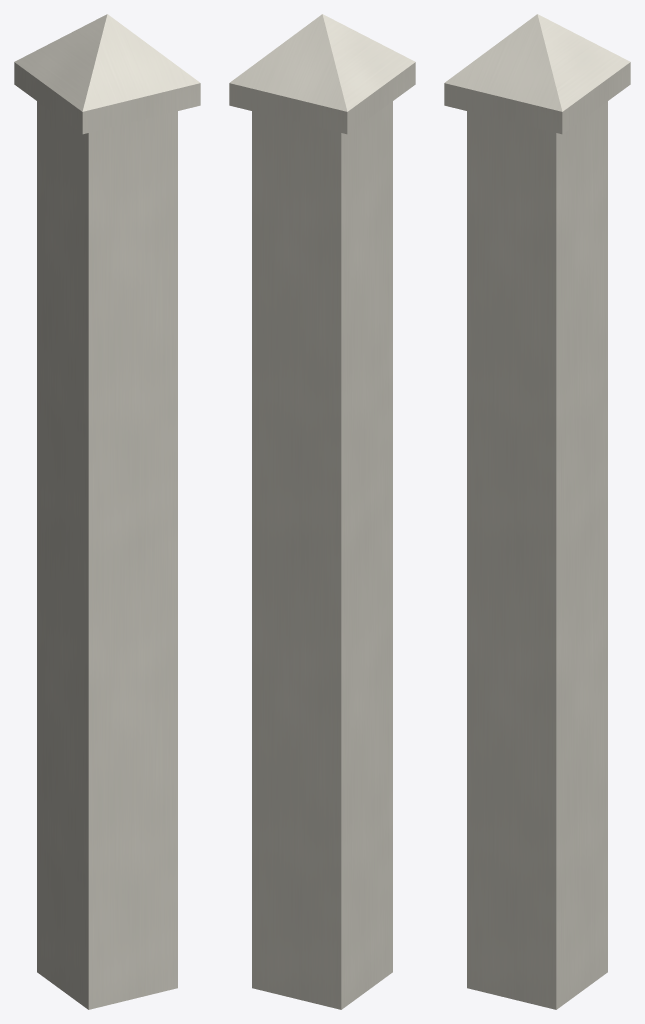
The model's file is fence_picket_corner_post.gltf.
3 renders of one model, left to right at view 1: azimuth 30°, elevation 25°; view 2: azimuth 150°, elevation 25°; view 3: azimuth 330°, elevation 25°, orthographic.
Visible parts, largest first — view 1: fence_picket_corner_post; view 2: fence_picket_corner_post; view 3: fence_picket_corner_post.
Boxes of the visible parts, <box> form: fence_picket_corner_post: <box>14,14,200,1009</box>; fence_picket_corner_post: <box>229,14,415,1009</box>; fence_picket_corner_post: <box>444,14,630,1009</box>.
Bounding box in the file's own units: 0.165 × 1.29 × 0.165.
1 material, 1 textured.
